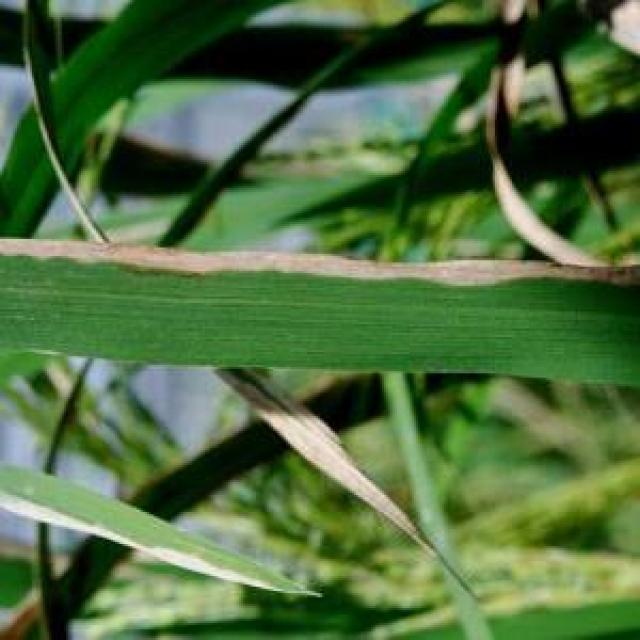leaf blight: (2, 235, 640, 292), (2, 480, 280, 589)
